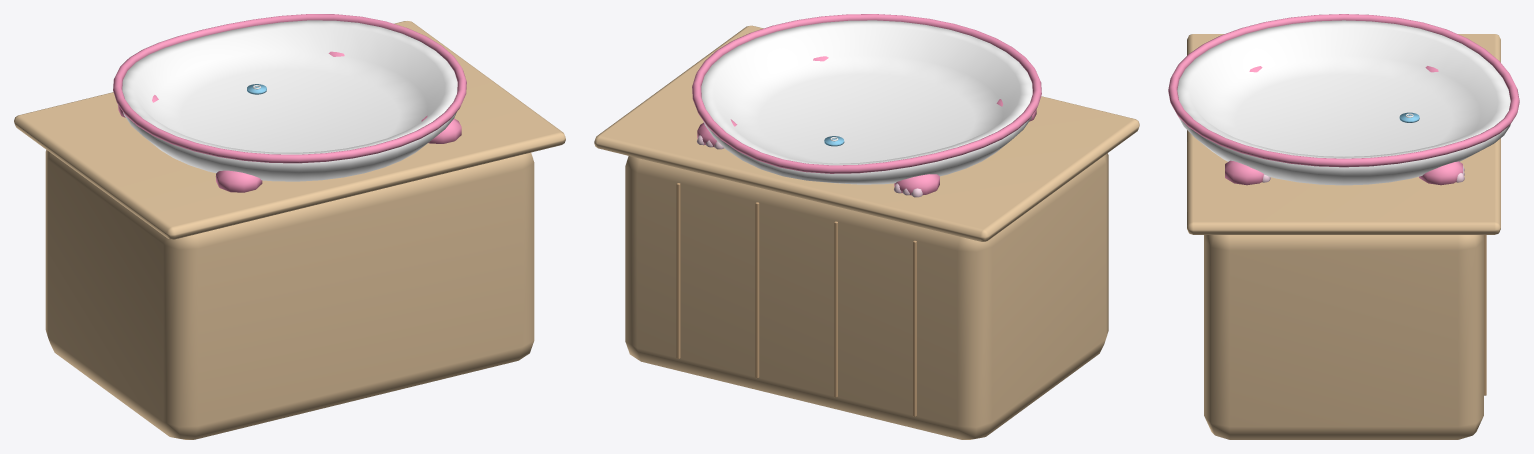
The model's file is tub_claw.glb.
3 renders of one model, left to right at view 1: azimuth 30°, elevation 25°; view 2: azimuth 150°, elevation 25°; view 3: azimuth 270°, elevation 25°, orthographic.
Parts seen in each view (by area): view 1: Stand, Tub; view 2: Stand, Tub; view 3: Stand, Tub.
Part boxes in pixels (box(x1,y1,x2,y2)): Stand: box(14, 21, 565, 439); Tub: box(113, 14, 466, 192); Stand: box(594, 25, 1139, 439); Tub: box(692, 14, 1041, 197); Stand: box(1187, 34, 1500, 439); Tub: box(1168, 14, 1519, 185).
Bounding box in the file's own units: 1.6 × 1.06 × 1.23.
Materials: 6 (6 with a texture image).
